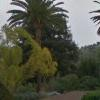Tree: (10, 0, 84, 57)
